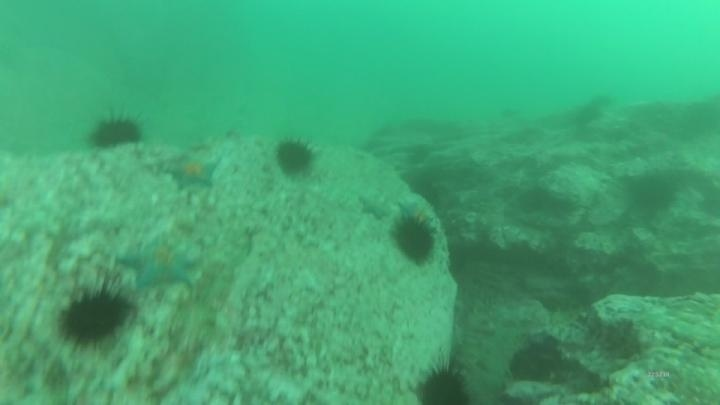echinus: (56, 280, 134, 352), (507, 338, 563, 386), (413, 360, 473, 404), (87, 110, 146, 153), (391, 214, 437, 267), (627, 173, 679, 215), (273, 136, 318, 178)
starfish: (116, 235, 201, 293), (166, 153, 221, 193), (396, 197, 439, 234), (356, 192, 393, 222)
